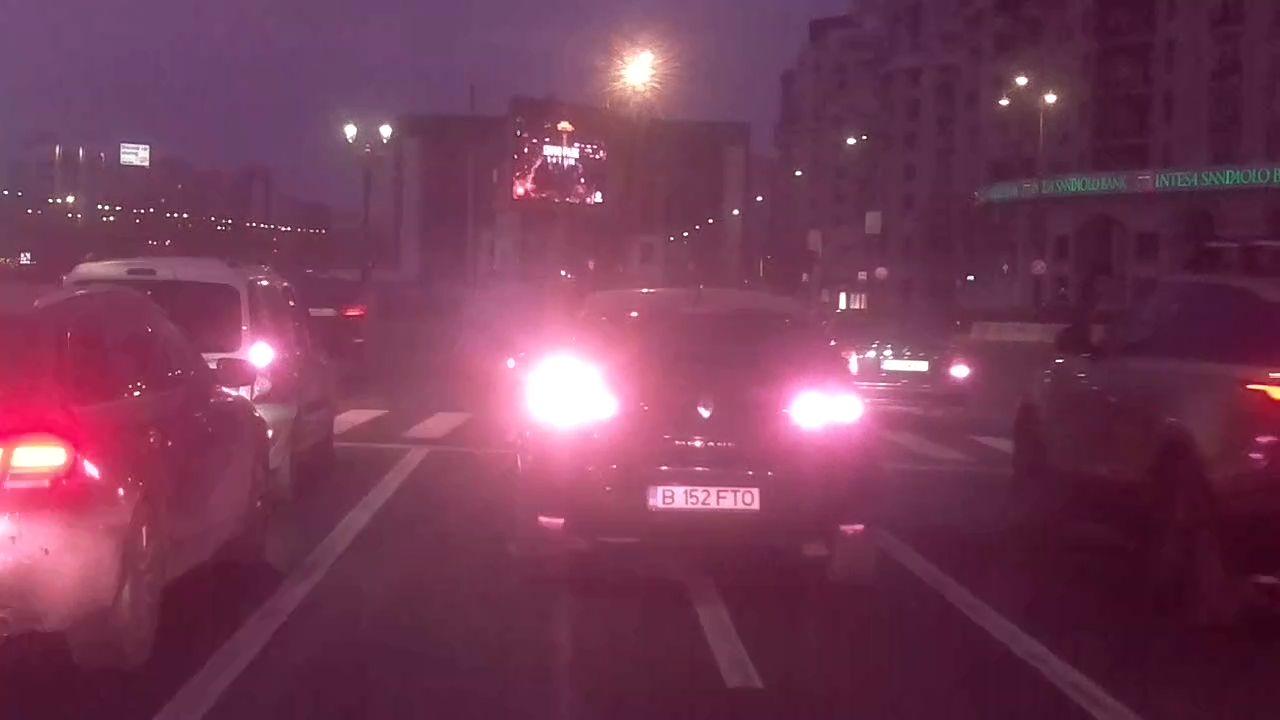license-plate: (644, 483, 764, 512)
